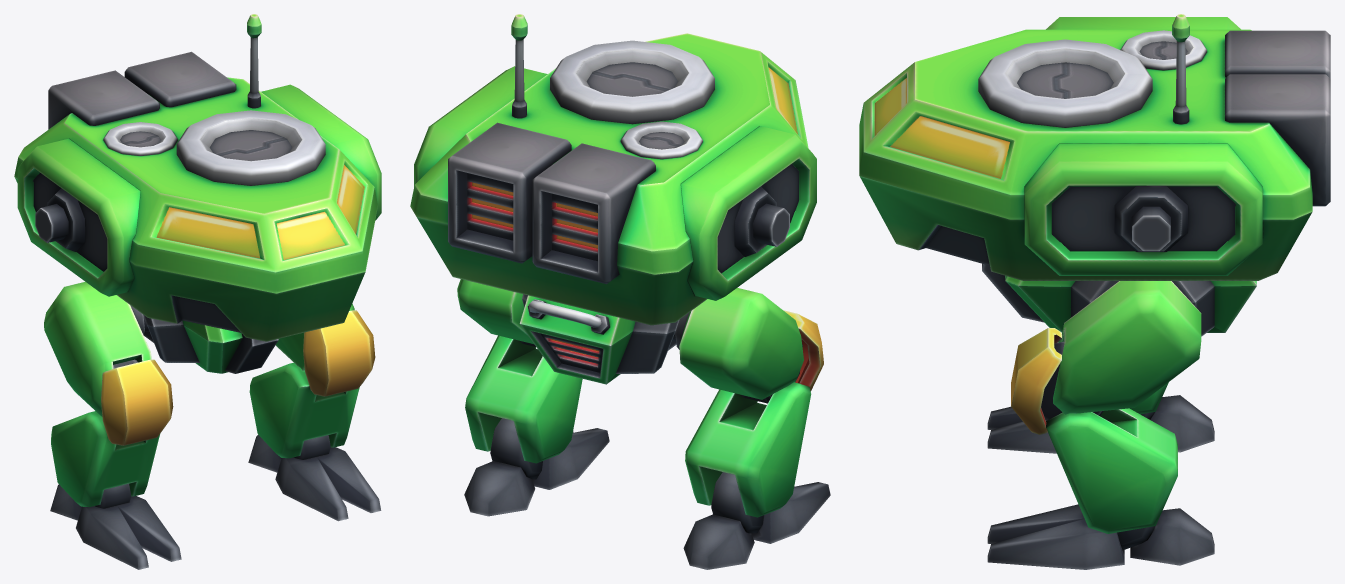
Rendered from robot_2.fbx.
3 views of the same model, side by side, from view 1: azimuth 30°, elevation 25°; view 2: azimuth 150°, elevation 25°; view 3: azimuth 270°, elevation 25° (orthographic). The views are drawn at different scales.
Visible parts, largest first — view 1: Cube.001, Cylinder.006, Cylinder.004, Cylinder.003, Icosphere.016, Icosphere.011, Cube.002, Cylinder.002; view 2: Cube.001, Cylinder.006, Cylinder.003, Cylinder.004, Cube.002, Icosphere.011, Icosphere.016, Cylinder.002; view 3: Cube.001, Cylinder.004, Cylinder.002, Icosphere.016, Cube.002, Icosphere.011.
Boxes of the visible parts, left/top/right/bottom form: Cube.001: left=14, top=14, right=381, bottom=341; Cylinder.006: left=51, top=359, right=173, bottom=507; Cylinder.004: left=249, top=310, right=375, bottom=458; Cylinder.003: left=44, top=281, right=151, bottom=416; Icosphere.016: left=248, top=435, right=381, bottom=521; Icosphere.011: left=50, top=484, right=181, bottom=569; Cube.002: left=143, top=315, right=278, bottom=373; Cylinder.002: left=275, top=304, right=354, bottom=370; Cube.001: left=410, top=14, right=816, bottom=325; Cylinder.006: left=685, top=310, right=823, bottom=517; Cylinder.003: left=672, top=287, right=803, bottom=399; Cylinder.004: left=465, top=335, right=582, bottom=463; Cube.002: left=519, top=294, right=679, bottom=384; Icosphere.011: left=683, top=472, right=830, bottom=569; Icosphere.016: left=464, top=418, right=609, bottom=516; Cylinder.002: left=457, top=279, right=533, bottom=343; Cube.001: left=859, top=14, right=1330, bottom=280; Cylinder.004: left=1011, top=328, right=1177, bottom=533; Cylinder.002: left=1053, top=281, right=1201, bottom=414; Icosphere.016: left=987, top=504, right=1214, bottom=569; Cube.002: left=982, top=263, right=1256, bottom=336; Icosphere.011: left=987, top=395, right=1214, bottom=453.
Bounding box in the file's own units: 168 × 234 × 192.
